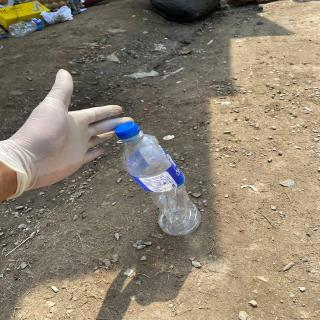Plastic-bottle: (114, 121, 204, 238)
